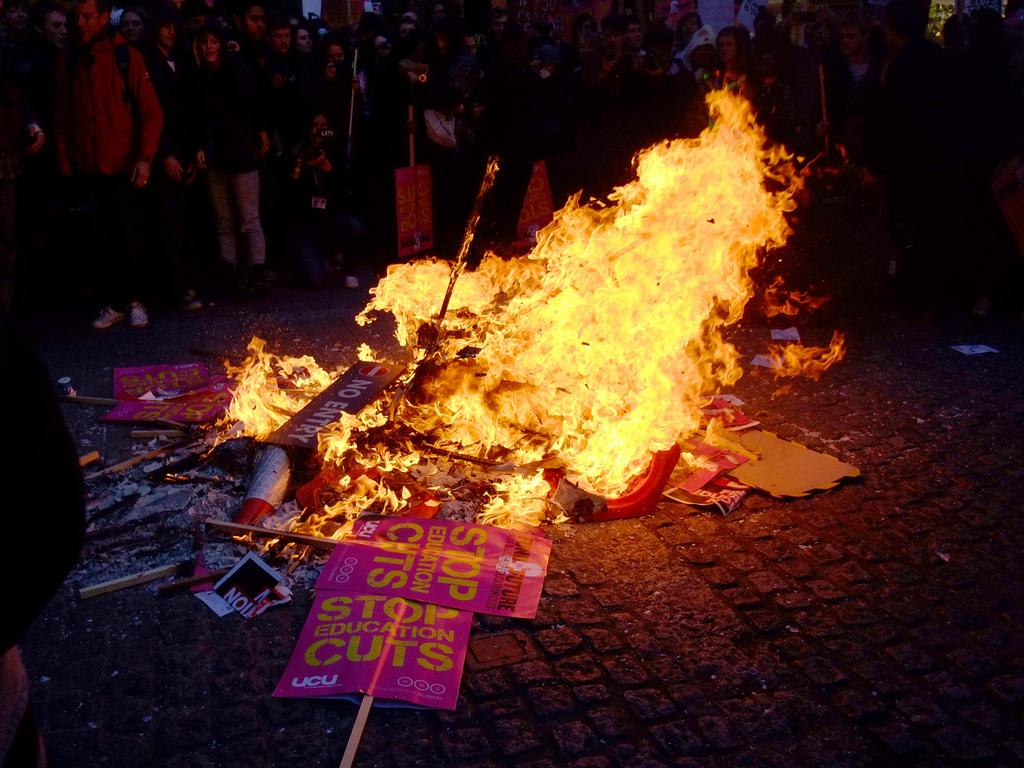fire: (388, 262, 692, 490), (638, 136, 788, 242)
